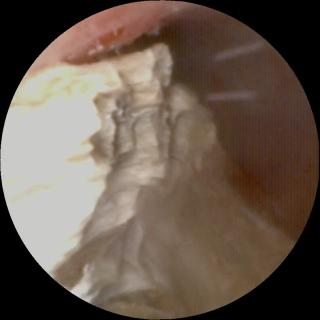stone: (4, 46, 289, 310)
tissue: (51, 4, 313, 235)
